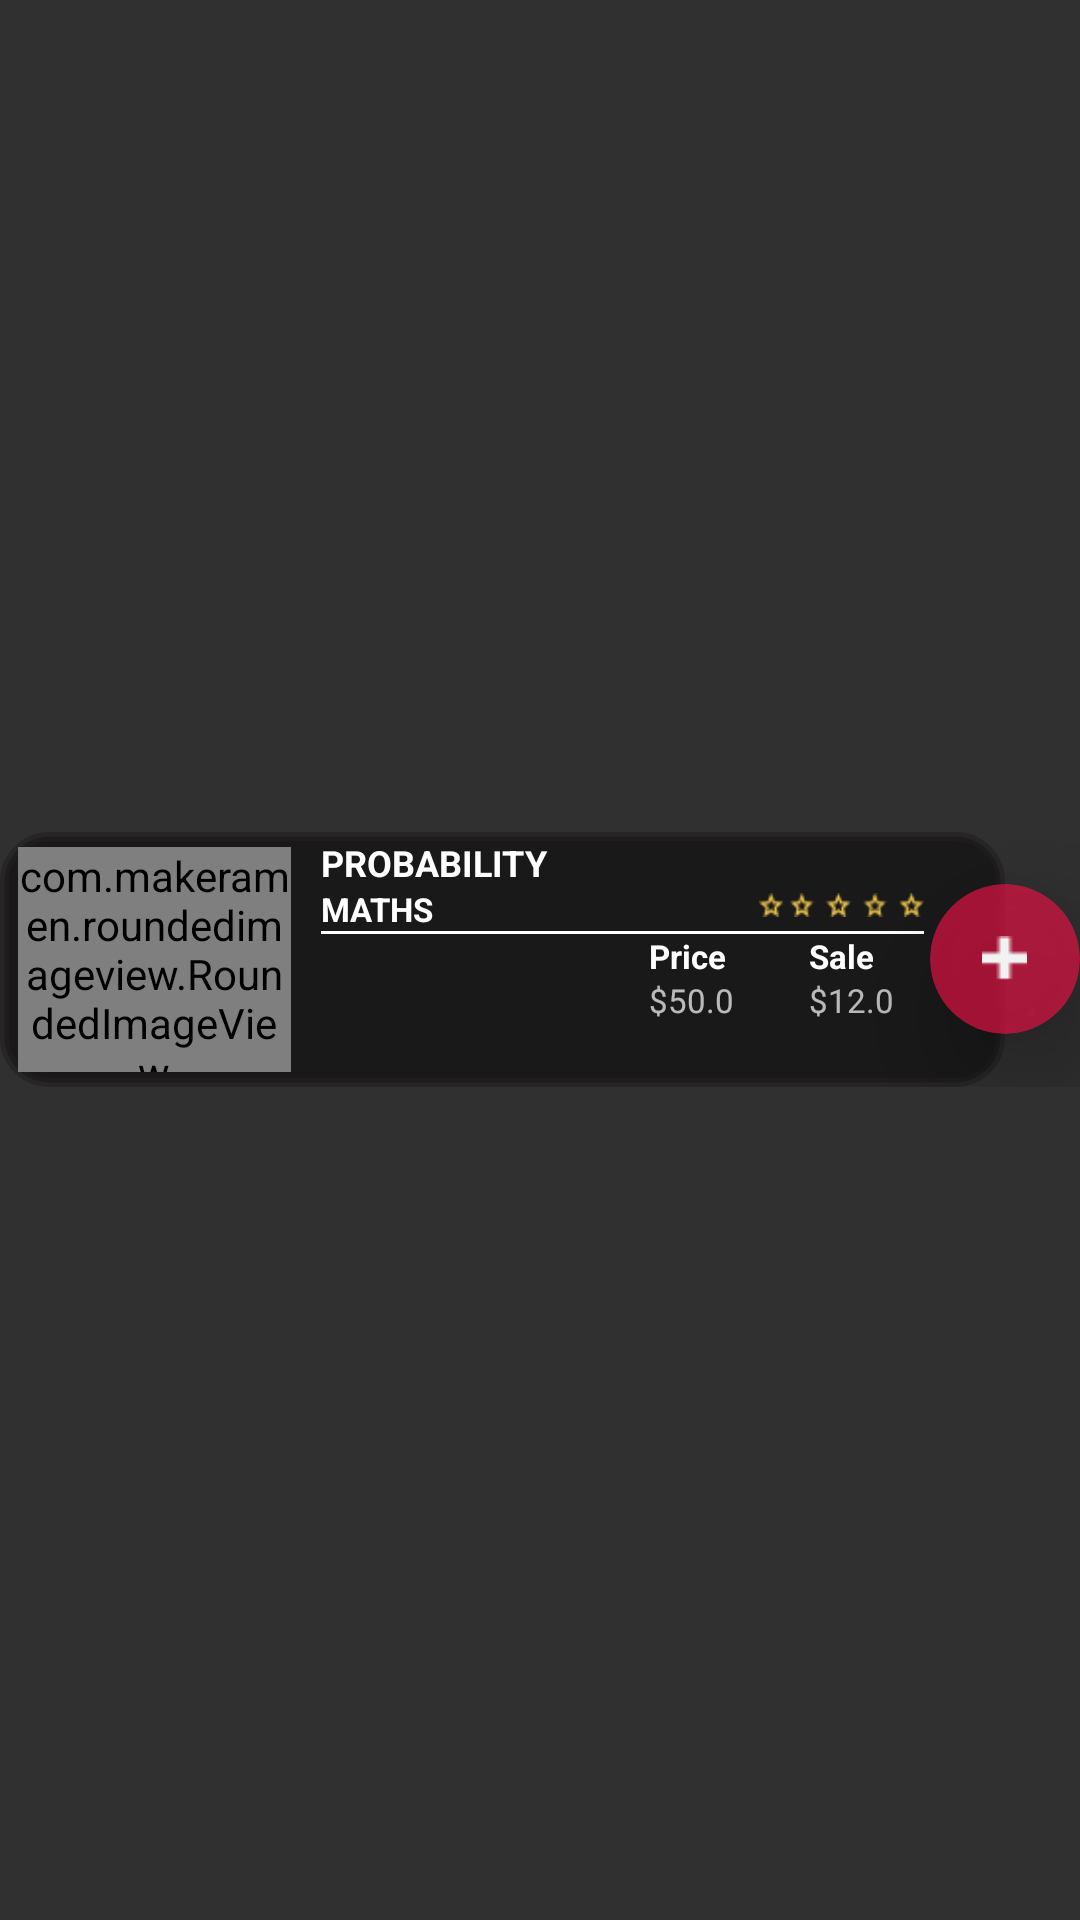

Named icons in this screenshot (1080px×1920px) and their centers, (x=x, y=y):
add: (x=1004, y=958)
